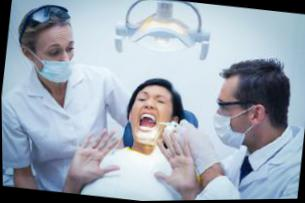NONE: (129, 89, 172, 148)
OK: (209, 91, 249, 149)
WRONG: (36, 34, 79, 85)
